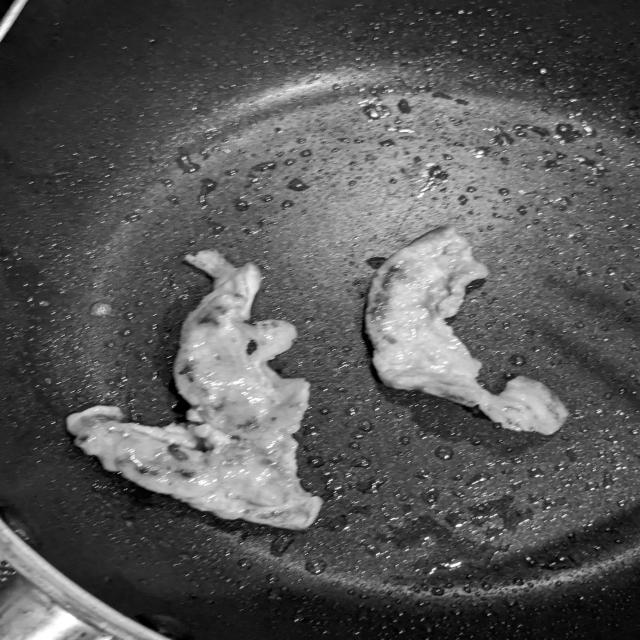OK cooked pork,: (39, 239, 343, 534), (360, 215, 583, 437)
